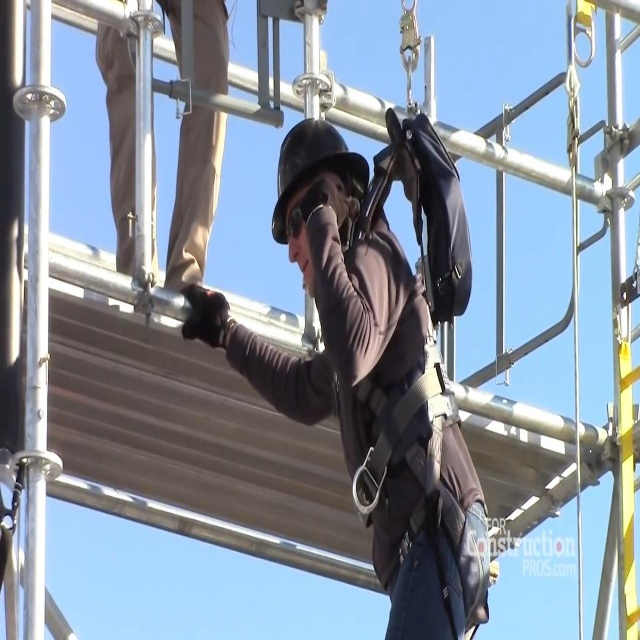Arnes_seguridad: (315, 121, 506, 640)
